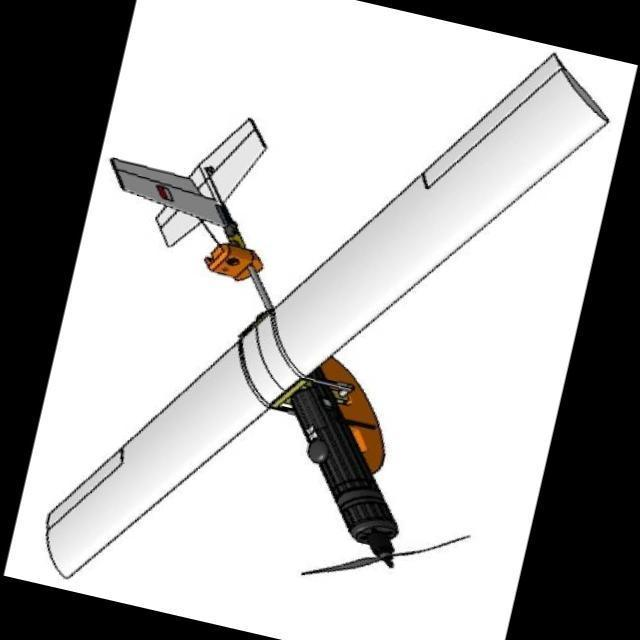iha: (35, 80, 552, 637)
